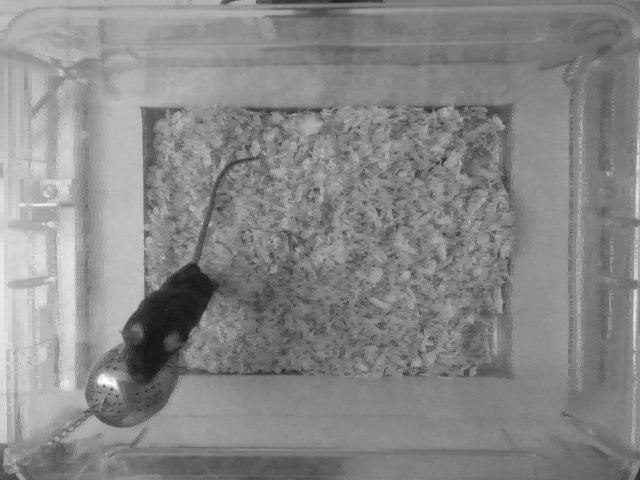mice: (117, 151, 262, 382)
